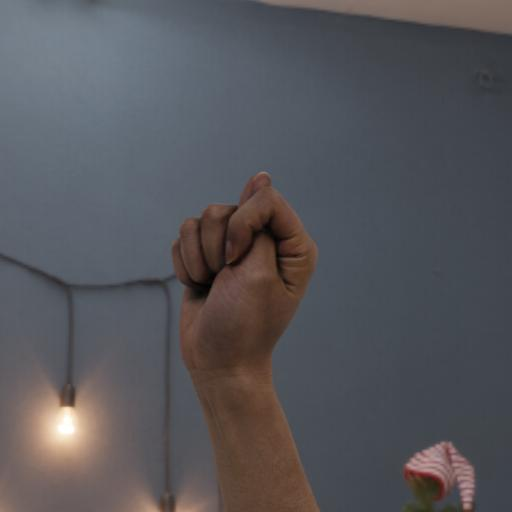T: (167, 168, 325, 368)
